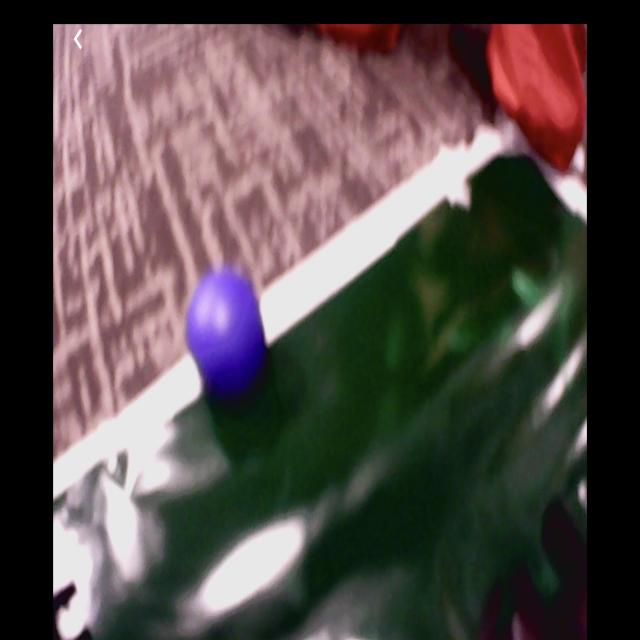ball: (187, 268, 264, 393)
